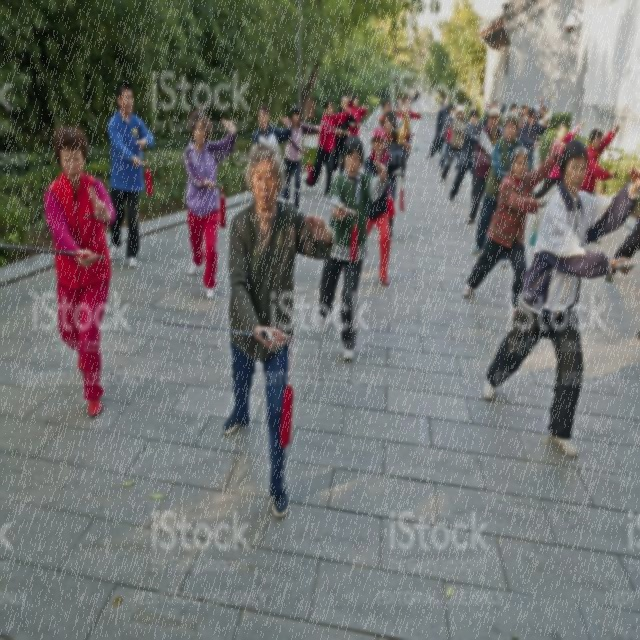pessoa: (482, 138, 640, 460), (211, 134, 341, 524), (41, 122, 120, 424), (461, 141, 561, 318), (315, 133, 390, 364), (101, 76, 158, 274), (182, 107, 238, 300), (471, 111, 534, 256), (360, 128, 414, 289), (302, 99, 352, 198), (466, 106, 504, 227), (532, 118, 582, 202), (284, 104, 322, 211), (382, 110, 412, 244), (448, 108, 487, 204), (602, 192, 640, 288), (579, 123, 620, 195), (438, 102, 469, 182), (251, 102, 293, 158), (438, 103, 468, 178), (331, 94, 357, 176), (517, 106, 547, 174), (425, 104, 456, 160), (428, 96, 451, 154), (399, 96, 422, 141), (348, 94, 368, 138), (480, 98, 504, 131), (377, 97, 392, 128), (534, 92, 552, 116), (392, 91, 406, 119), (537, 104, 552, 126), (517, 101, 530, 122), (509, 102, 518, 114)
